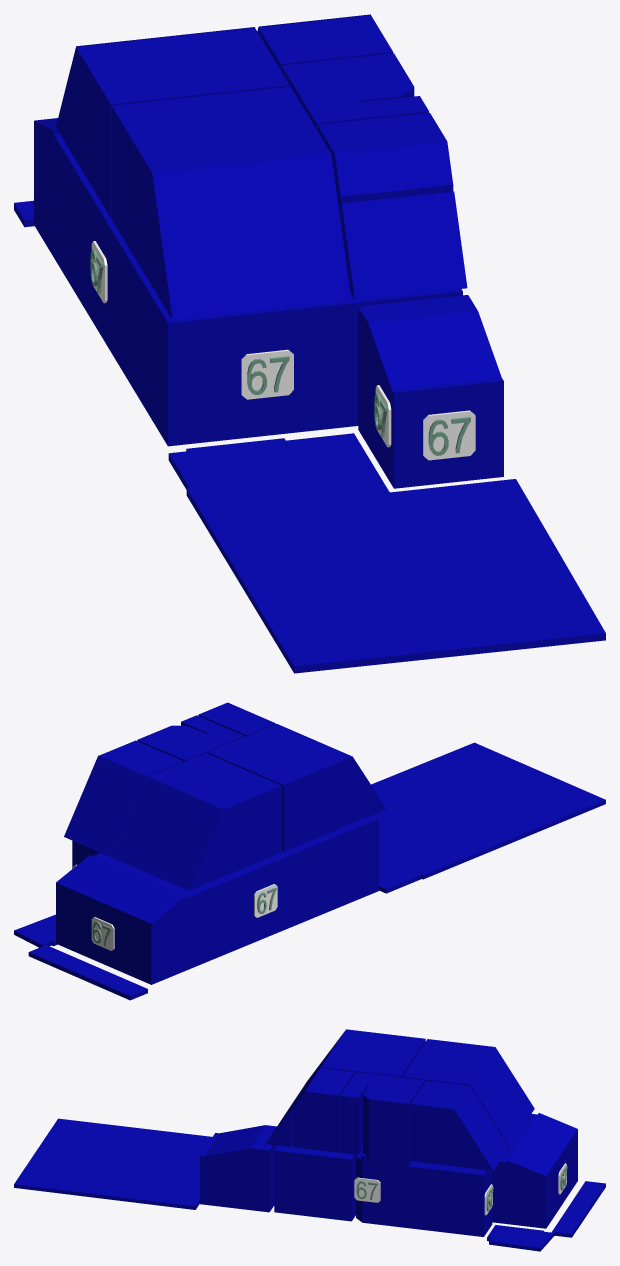
3 renders of one model, top to bottom at view 1: azimuth 30°, elevation 25°; view 2: azimuth 150°, elevation 25°; view 3: azimuth 270°, elevation 25°, orthographic. The views are drawn at different scales.
Visible parts, largest first — view 1: g_15, g_7, g_0, g_5, g_8, g_1, g_12, g_6, g_10, g_9, g_11, g_24 (+1 smaller); view 2: g_1, g_15, g_8, g_7, g_9, g_0, g_13, g_10, g_6, g_14, g_11, g_21 (+1 smaller); view 3: g_15, g_1, g_9, g_8, g_5, g_0, g_4, g_7, g_6, g_11, g_2, g_10 (+4 smaller).
Part boxes in pixels (x1,y1,x2,y2): g_15: (168,433,605,673); g_7: (111,86,351,319); g_0: (128,256,462,446); g_5: (358,295,503,488); g_8: (56,27,289,217); g_1: (34,118,133,379); g_12: (341,191,467,300); g_6: (317,113,453,227); g_10: (281,58,428,130); g_9: (257,14,393,71); g_11: (344,53,414,102); g_24: (241,349,293,399); g_1: (56,843,311,984); g_15: (371,742,605,893); g_8: (113,753,281,890); g_7: (207,724,386,851); g_9: (64,740,183,857); g_0: (304,815,378,918); g_13: (28,944,147,1000); g_10: (156,715,244,762); g_6: (198,702,275,736); g_14: (14,914,57,947); g_11: (137,725,205,748); g_21: (91,917,114,950); g_15: (14,1118,212,1209); g_1: (492,1113,577,1228); g_9: (410,1080,508,1170); g_8: (402,1039,534,1146); g_5: (200,1125,277,1212); g_0: (274,1144,356,1221); g_4: (411,1161,492,1236); g_7: (282,1029,425,1118); g_6: (293,1068,354,1152); g_11: (363,1085,415,1161); g_2: (356,1149,414,1228); g_10: (340,1072,424,1154).
Size of the model in its own units: 11.55 by 5.36 by 22.33.
